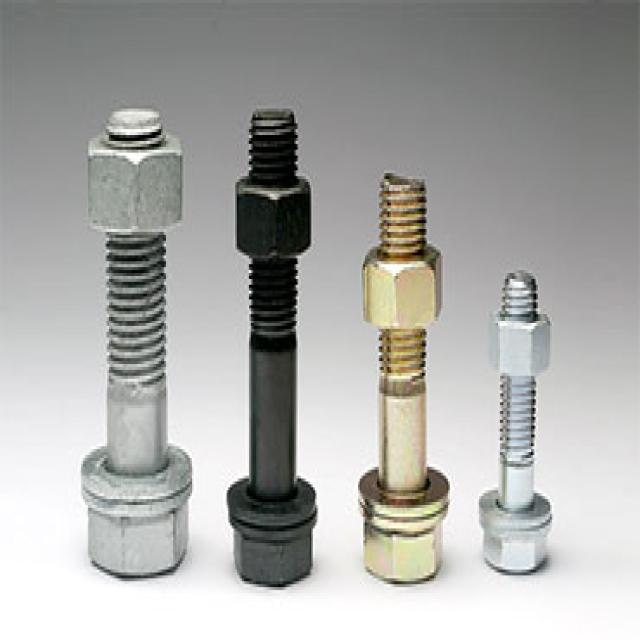Bolt: (78, 103, 192, 584), (228, 104, 316, 590), (358, 170, 444, 586), (477, 269, 552, 578)
Nut: (85, 136, 185, 237), (361, 245, 444, 331), (234, 174, 313, 260), (488, 308, 554, 380)
